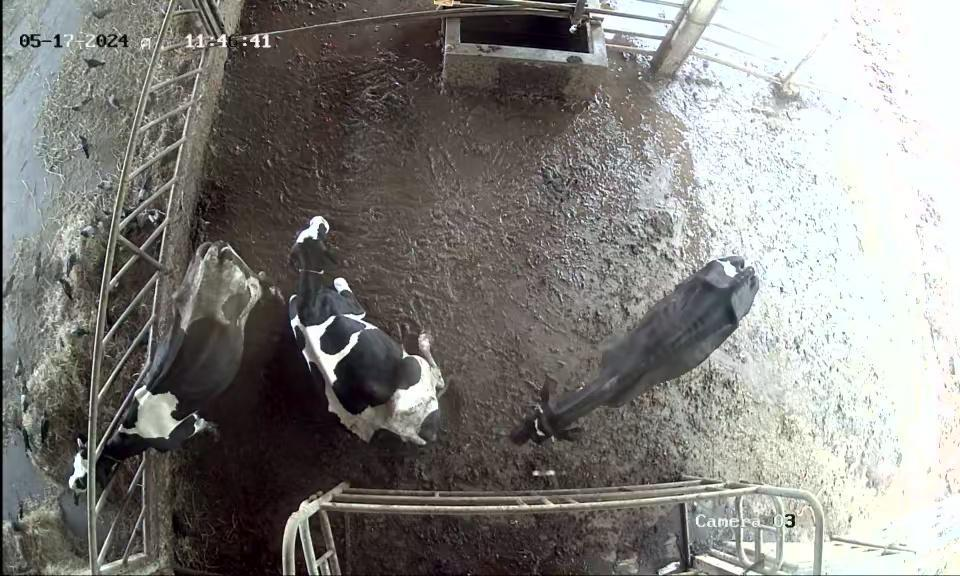eat: (52, 414, 153, 507)
lay: (278, 208, 464, 461)
stand: (492, 235, 768, 463)
